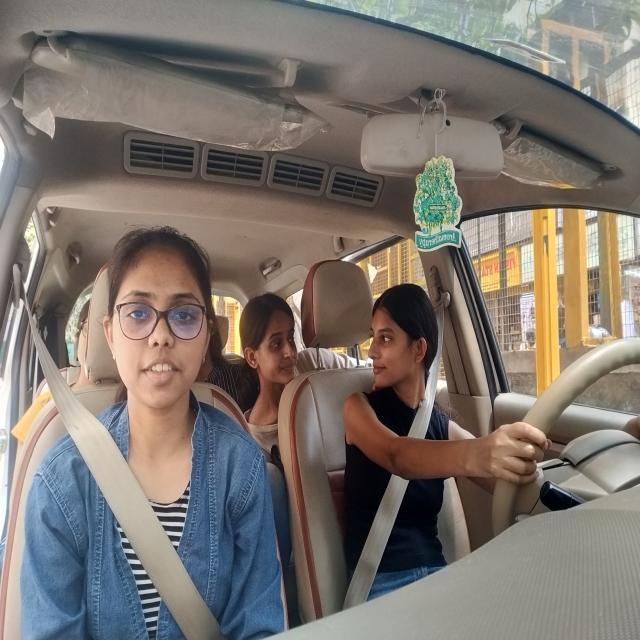LeftRight: (367, 284, 440, 401)
person: (106, 230, 213, 410), (239, 294, 299, 388), (73, 296, 97, 391)
